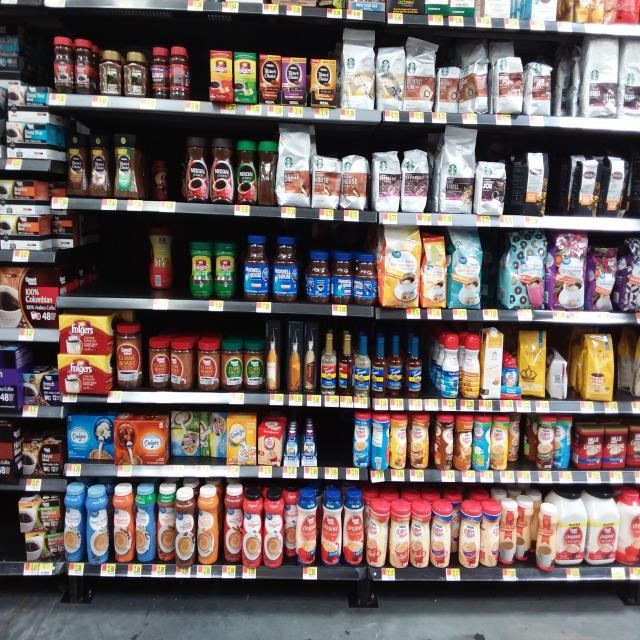unorganised: (304, 251, 379, 304), (168, 405, 228, 464), (17, 495, 64, 560), (501, 490, 536, 568), (66, 408, 114, 462), (458, 43, 490, 114), (546, 344, 581, 399), (111, 483, 135, 563), (85, 485, 109, 564), (614, 331, 640, 401), (155, 482, 177, 563), (338, 154, 369, 211), (222, 485, 243, 566), (198, 484, 219, 564), (135, 483, 156, 562), (535, 501, 558, 572), (296, 489, 317, 565), (149, 228, 174, 290), (509, 415, 537, 470), (367, 498, 389, 568), (479, 501, 502, 566), (430, 500, 452, 566), (410, 500, 430, 569), (169, 339, 194, 391), (256, 419, 283, 466), (221, 339, 244, 392), (283, 484, 298, 564), (258, 140, 276, 206), (168, 45, 189, 101), (433, 413, 454, 469), (409, 413, 430, 468), (388, 413, 408, 469), (553, 416, 574, 469), (472, 415, 492, 470), (370, 413, 389, 470), (370, 335, 387, 397), (454, 414, 472, 471), (404, 337, 421, 397), (337, 333, 353, 395), (150, 45, 168, 97), (452, 499, 462, 567), (153, 158, 168, 199)
